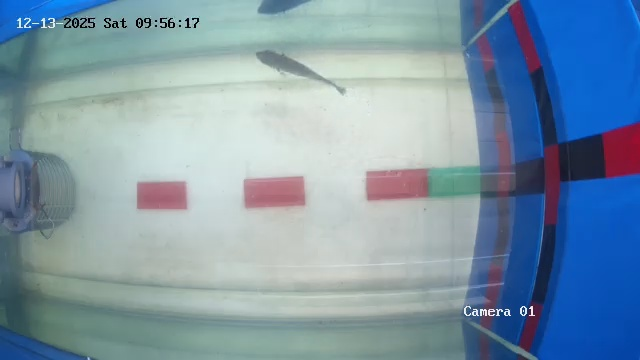fish: (250, 34, 343, 103)
